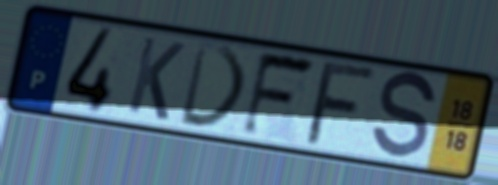4: (62, 24, 117, 117)
D: (176, 39, 251, 132)
F: (237, 49, 319, 141), (300, 60, 382, 149)
K: (123, 33, 188, 124)
S: (368, 69, 440, 164)
